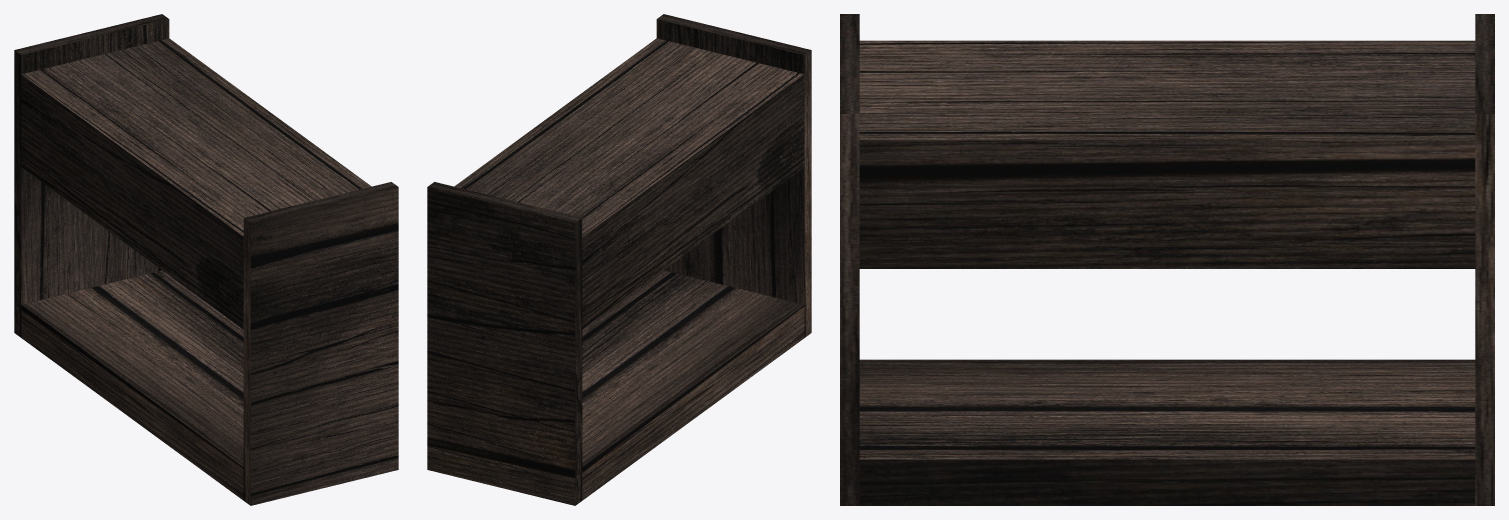
The model's file is CoffeeTable.fbx.
The picture shows the model from 3 angles, left to right: view 1: azimuth 30°, elevation 25°; view 2: azimuth 150°, elevation 25°; view 3: azimuth 270°, elevation 25°; orthographic projection. The views are drawn at different scales.
Parts seen in each view (by area): view 1: CoffeeTable; view 2: CoffeeTable; view 3: CoffeeTable.
Boxes of the visible parts, <box> form: CoffeeTable: <box>14,14,398,505</box>; CoffeeTable: <box>427,14,811,505</box>; CoffeeTable: <box>840,14,1494,505</box>.
Size of the model in its own units: 68.78 by 126 by 190.
